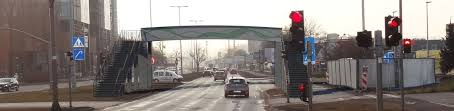bridge: (92, 26, 312, 93)
